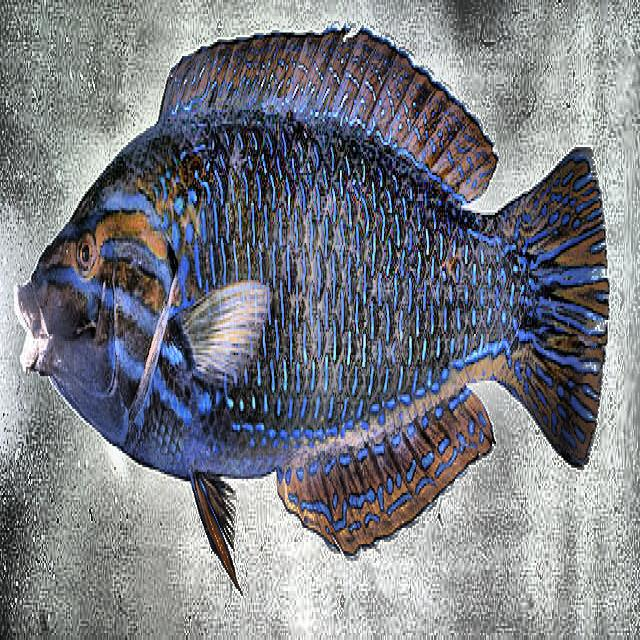fish: (11, 22, 610, 606)
